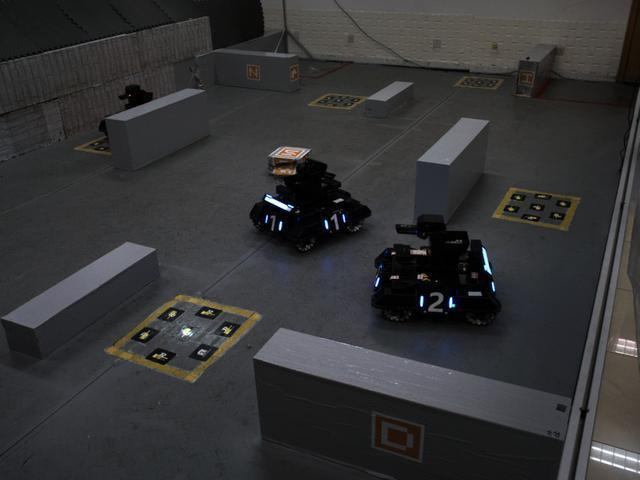armor: (414, 285, 459, 319), (319, 210, 348, 236), (261, 211, 285, 237)
